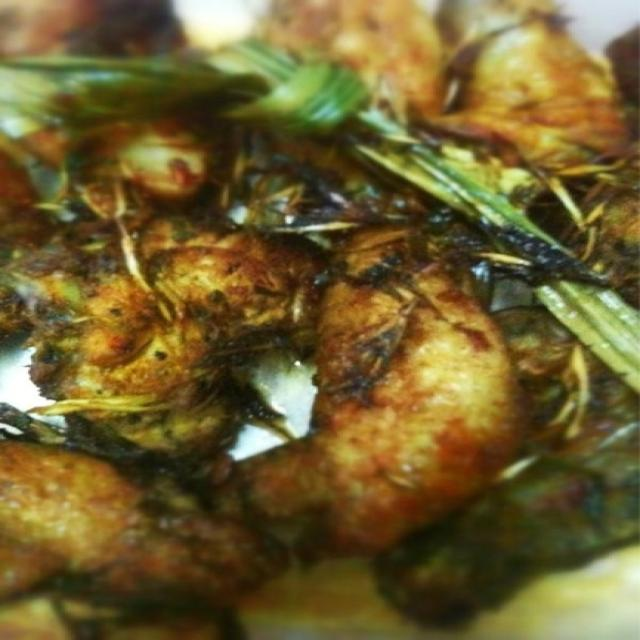鸡肉料理 含炸鸡: (15, 36, 609, 604)
